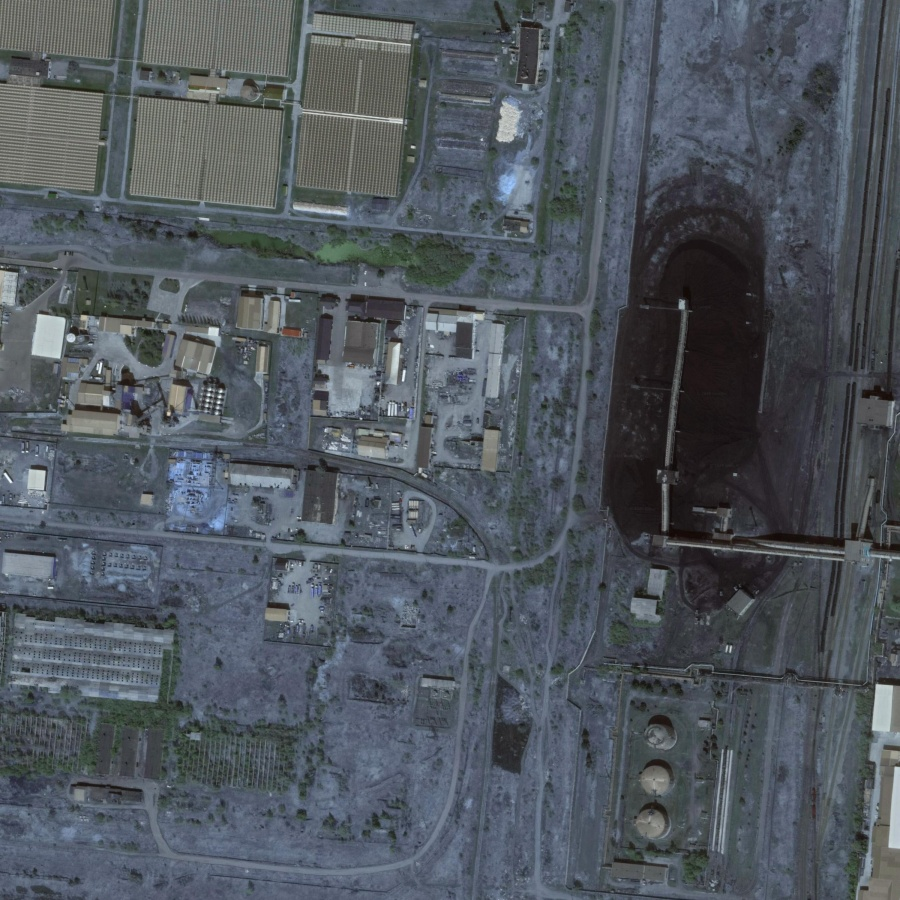PowerPlant: (595, 657, 743, 899)
